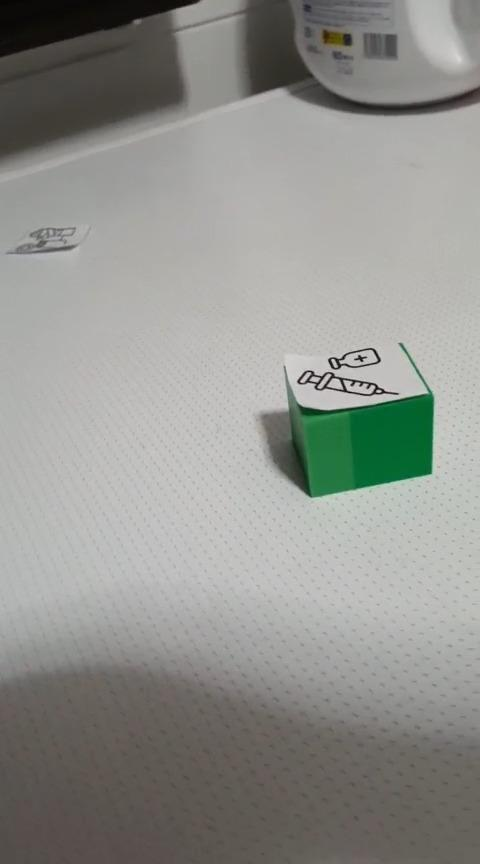antiseptic cream: (281, 339, 434, 498)
